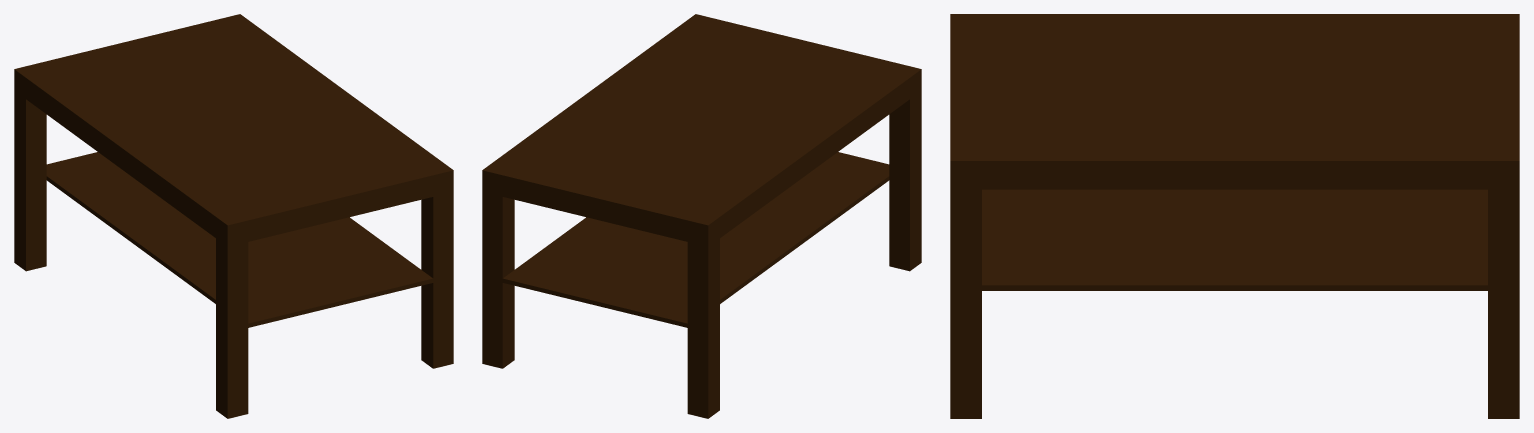
File: ctable.dae
3 views of the same model, side by side, from view 1: azimuth 30°, elevation 25°; view 2: azimuth 150°, elevation 25°; view 3: azimuth 270°, elevation 25° (orthographic). The views are drawn at different scales.
Parts seen in each view (by area): view 1: group_4, group_0, group_3, group_5, group_2; view 2: group_4, group_0, group_2, group_6, group_3; view 3: group_4, group_0, group_5, group_6.
Part boxes in pixels (left/top/right/bottom): group_4: left=14, top=14, right=453, bottom=246; group_0: left=46, top=152, right=433, bottom=327; group_3: left=216, top=238, right=248, bottom=418; group_5: left=421, top=192, right=453, bottom=368; group_2: left=14, top=91, right=46, bottom=271; group_4: left=482, top=14, right=921, bottom=246; group_0: left=502, top=152, right=889, bottom=327; group_2: left=687, top=238, right=719, bottom=418; group_6: left=482, top=192, right=514, bottom=368; group_3: left=889, top=91, right=921, bottom=271; group_4: left=950, top=14, right=1519, bottom=189; group_0: left=982, top=189, right=1487, bottom=290; group_5: left=950, top=189, right=981, bottom=418; group_6: left=1488, top=189, right=1519, bottom=418.
Size of the model in its own units: 21.65 by 35.43 by 17.72.
